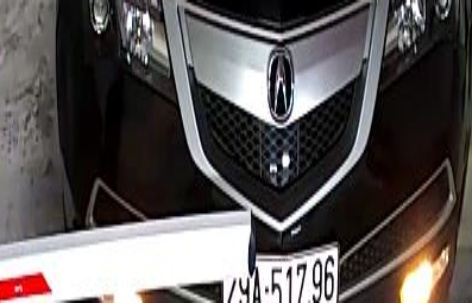plate: (211, 248, 353, 303)
